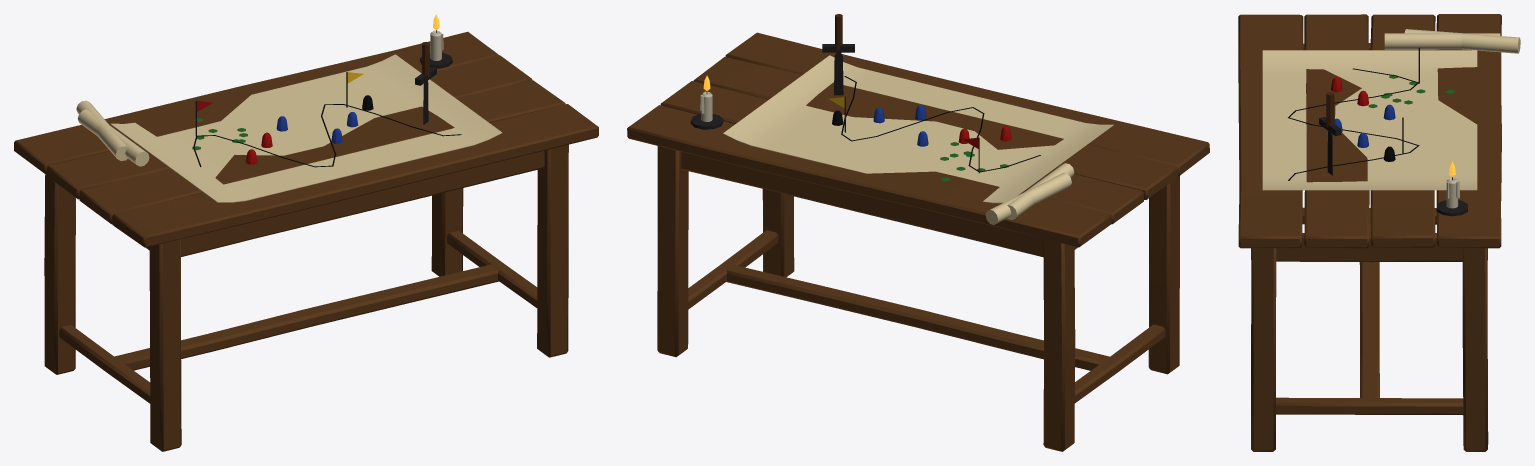
File: kartentisch.glb
3 views of the same model, side by side, from view 1: azimuth 30°, elevation 25°; view 2: azimuth 150°, elevation 25°; view 3: azimuth 270°, elevation 25° (orthographic).
Visible parts, largest first — view 1: kartentisch; view 2: kartentisch; view 3: kartentisch.
Part boxes in pixels (x1,y1,x2,y2): kartentisch: (14,14,598,451); kartentisch: (627,14,1209,451); kartentisch: (1238,14,1520,451).
Bounding box in the file's own units: 1.6 × 1.03 × 0.855.
